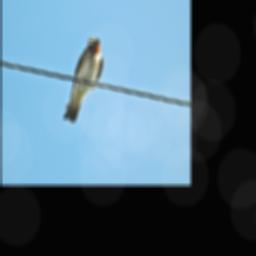Swallow: (62, 35, 104, 124)
